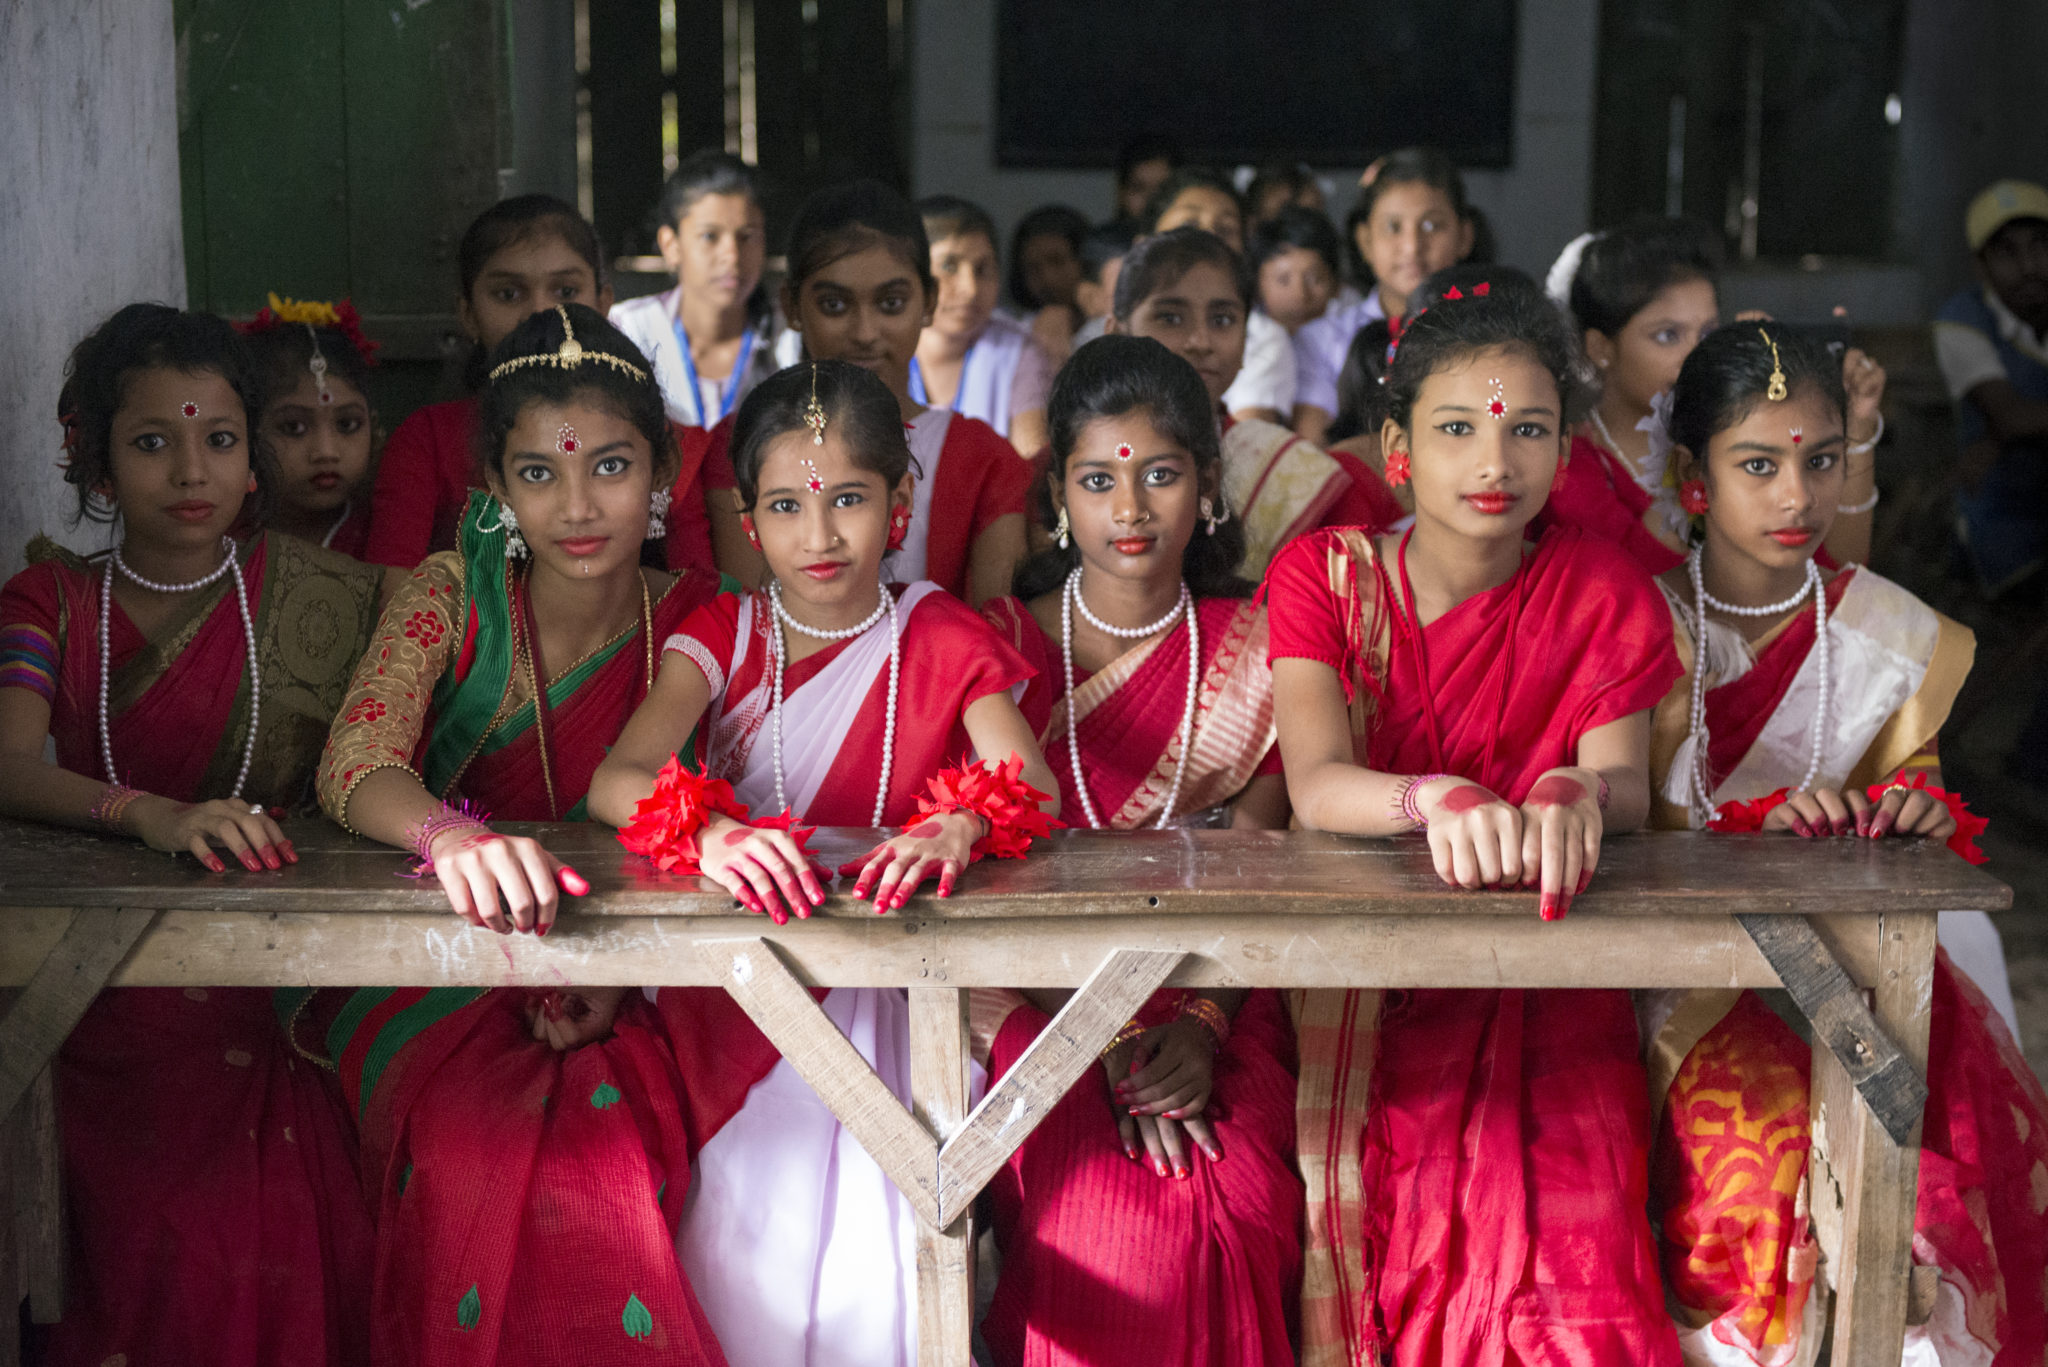person: (1314, 337, 1669, 890), (14, 303, 343, 866), (1665, 332, 1993, 879), (690, 348, 955, 869), (404, 335, 668, 855), (1002, 346, 1265, 841), (757, 218, 943, 386), (627, 168, 772, 366), (244, 320, 383, 527), (1086, 234, 1254, 398), (426, 194, 607, 332), (1334, 151, 1490, 311), (1581, 238, 1727, 400), (924, 197, 1003, 339), (1251, 224, 1327, 322), (1012, 207, 1082, 313), (1106, 149, 1166, 220), (1161, 189, 1241, 231)
